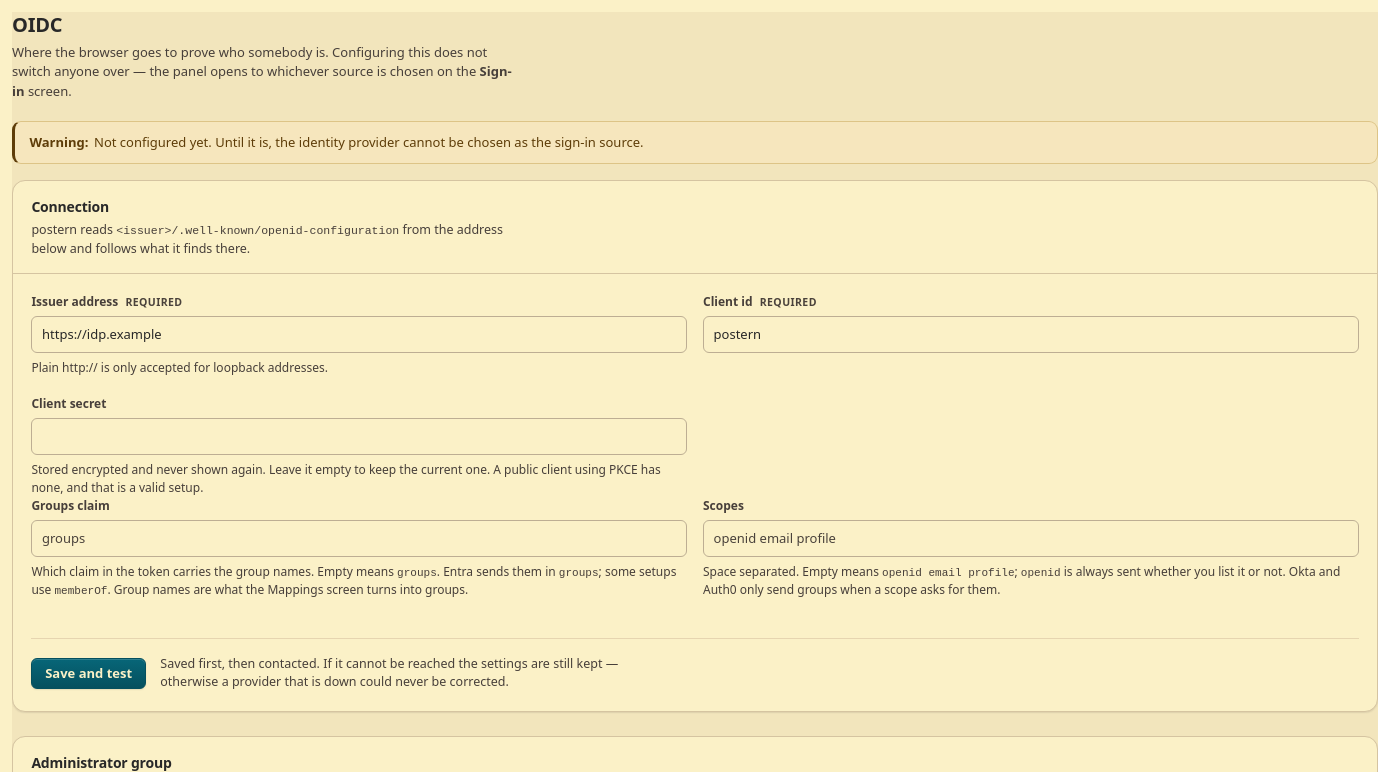
Scenario: kimlik sağlayıcı ayarları › ulaşılamadığında hatayı gösteriyor ama yazılanı silmiyor
Expected: the field labelled "Client id required" is shown, [703, 316, 1359, 353]
What coordinates should you click on to do the following:
click the button "Save and test"
I would click on:
 (89, 673)
Its box is [31, 658, 146, 689].
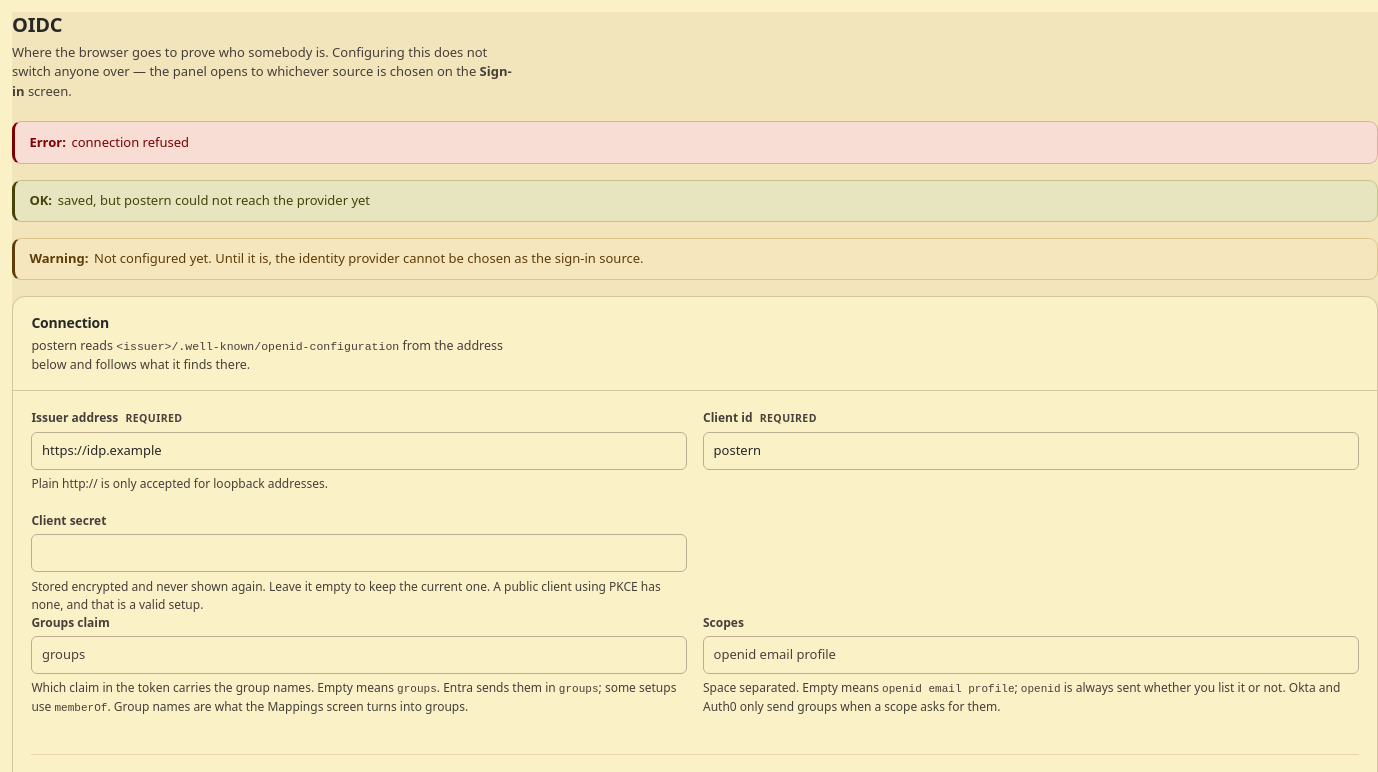
Expected: the field labelled "Issuer address required" holds "https://idp.example", [31, 432, 687, 470]
Expected: the text "connection refused" is shown, [12, 121, 1377, 164]
